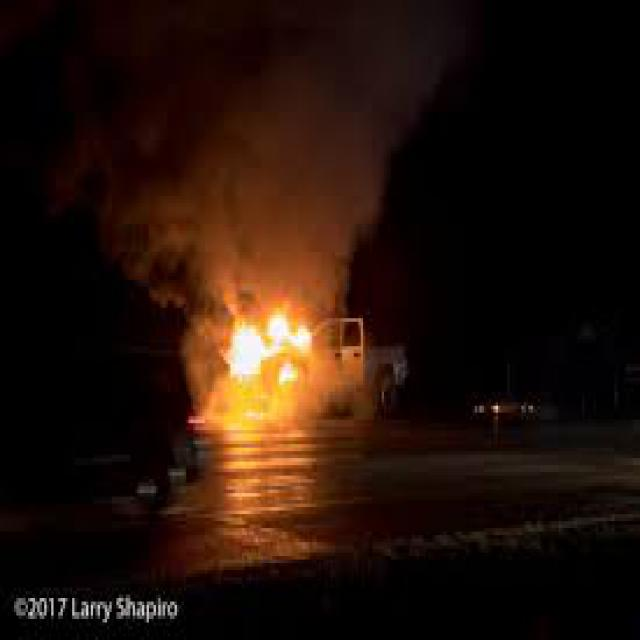fire: (215, 284, 343, 424)
